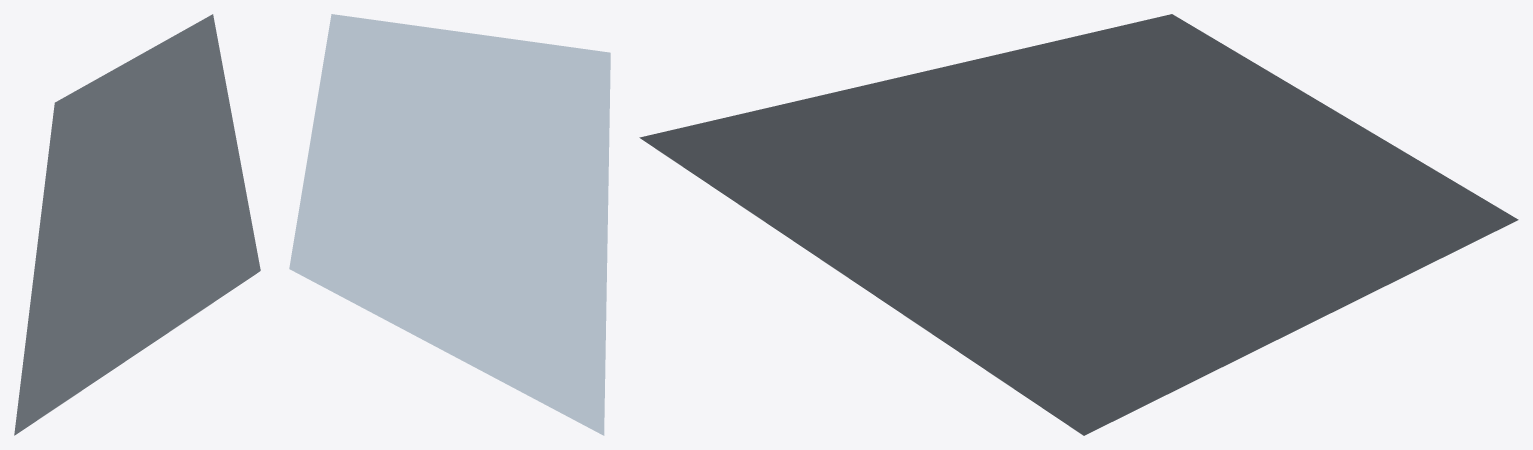
The model's file is dorsal-cuneocuboid-ligament-r.glb.
3 renders of one model, left to right at view 1: azimuth 30°, elevation 25°; view 2: azimuth 150°, elevation 25°; view 3: azimuth 270°, elevation 25°, orthographic. The views are drawn at different scales.
Parts seen in each view (by area): view 1: Dorsal cuneocuboid ligament.r; view 2: Dorsal cuneocuboid ligament.r; view 3: Dorsal cuneocuboid ligament.r.
Boxes of the visible parts, box(x1,y1,x2,y2) form: Dorsal cuneocuboid ligament.r: box(14, 14, 260, 435); Dorsal cuneocuboid ligament.r: box(289, 14, 610, 435); Dorsal cuneocuboid ligament.r: box(639, 14, 1518, 435).
Size of the model in its own units: 0.00633 by 0.00942 by 0.0122.
